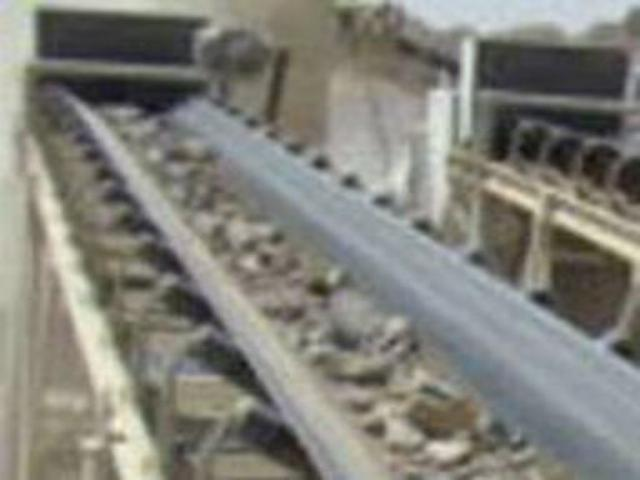conveyor: (22, 72, 638, 479)
